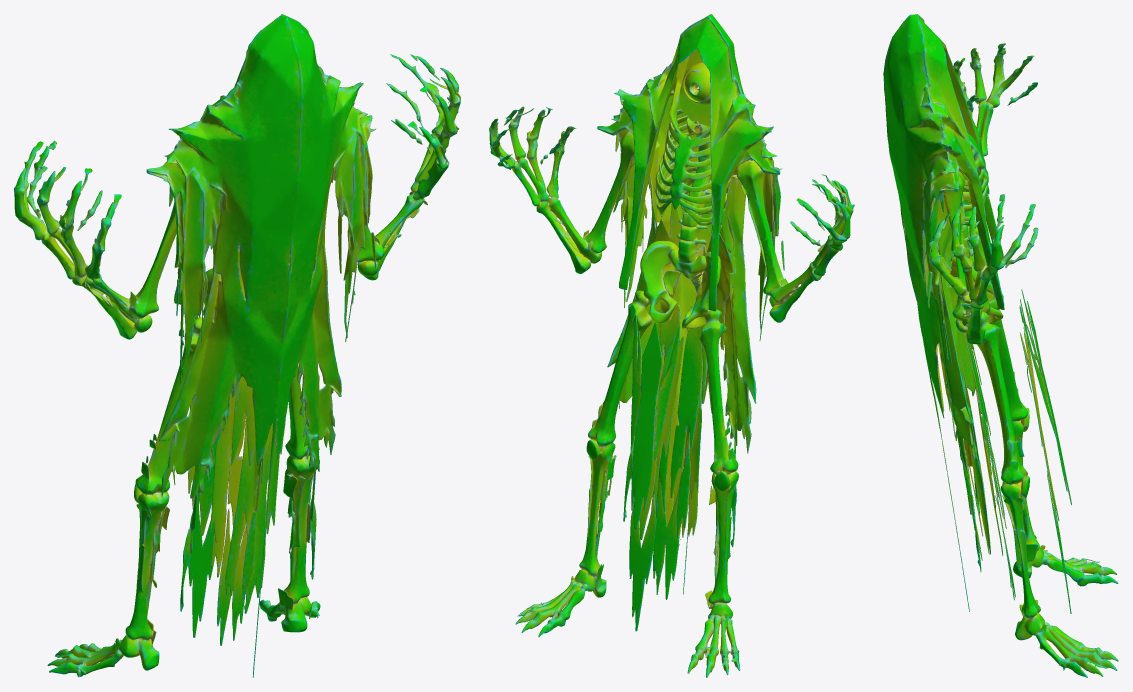
File: BoneConjurer_outline.fbx
The picture shows the model from 3 angles, left to right: view 1: azimuth 30°, elevation 25°; view 2: azimuth 150°, elevation 25°; view 3: azimuth 270°, elevation 25°; orthographic projection. The views are drawn at different scales.
Visible parts, largest first — view 1: BoneConjurer_outline; view 2: BoneConjurer_outline; view 3: BoneConjurer_outline.
Part boxes in pixels (bbox=[...]): BoneConjurer_outline: bbox=[14, 14, 460, 677]; BoneConjurer_outline: bbox=[489, 14, 854, 677]; BoneConjurer_outline: bbox=[883, 14, 1118, 677].
Size of the model in its own units: 119 by 180 by 63.06.
